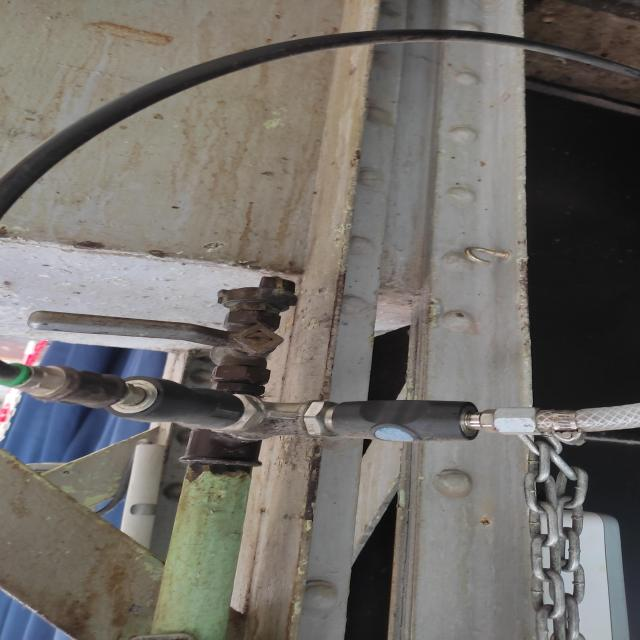closed_valve: (22, 306, 288, 384)
